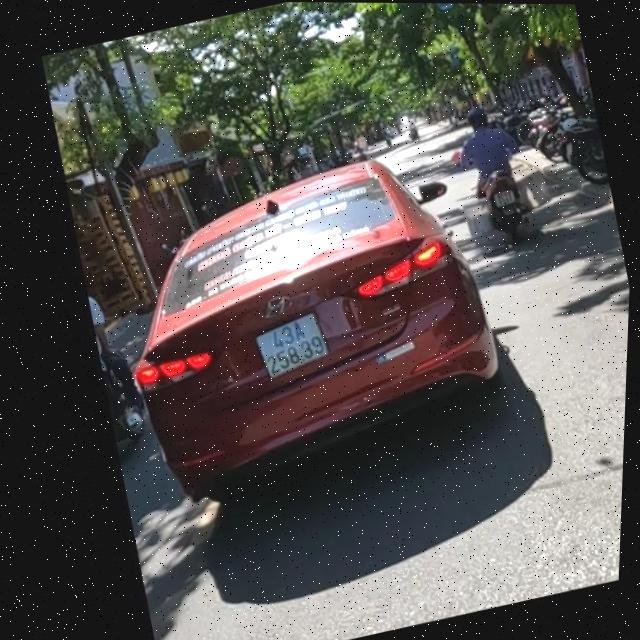car: (88, 126, 531, 529)
motorcycle: (475, 158, 539, 244)
plate: (246, 307, 337, 385)
